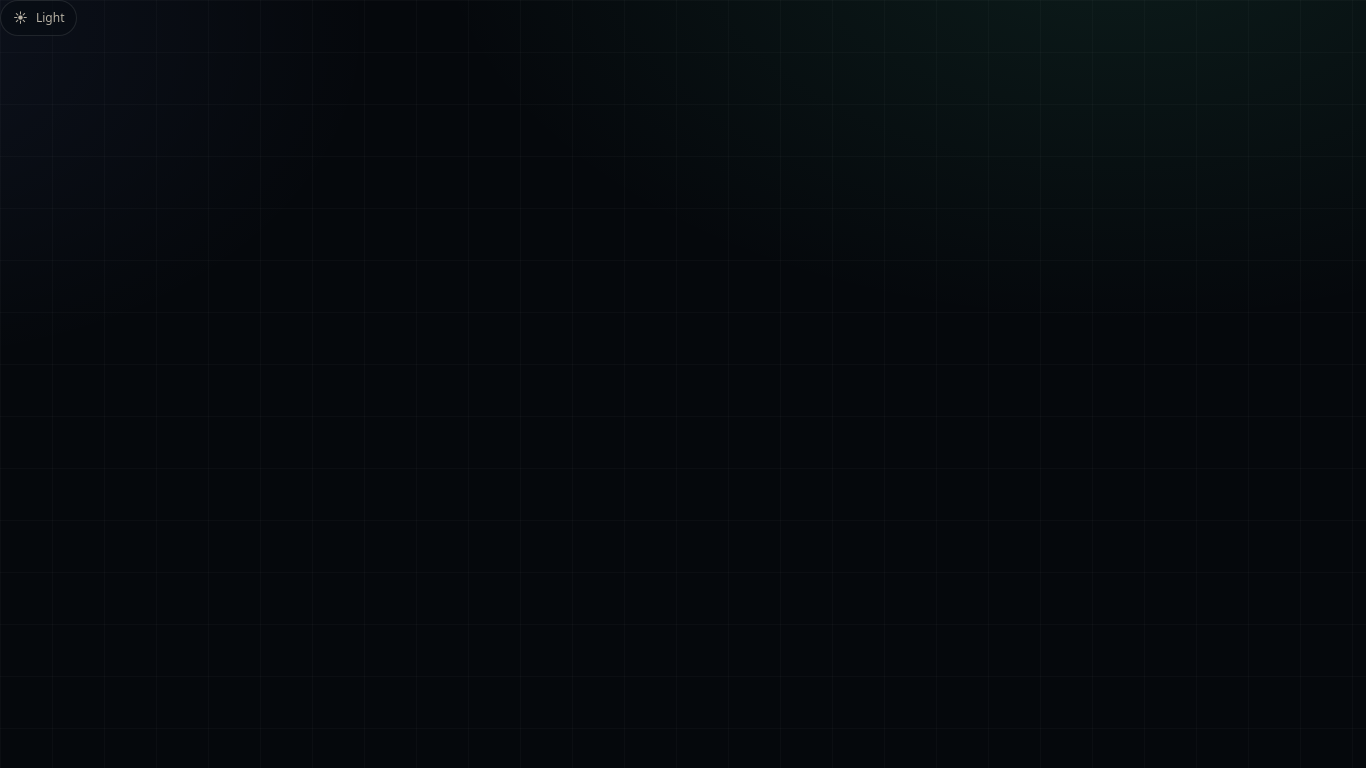
theme toggle › switches to the light theme and persists the choice
This screenshot has width=1366, height=768.
Step 1. Click the button with aria-label "Switch to light theme" → click(39, 18), box [0,0,78,36]
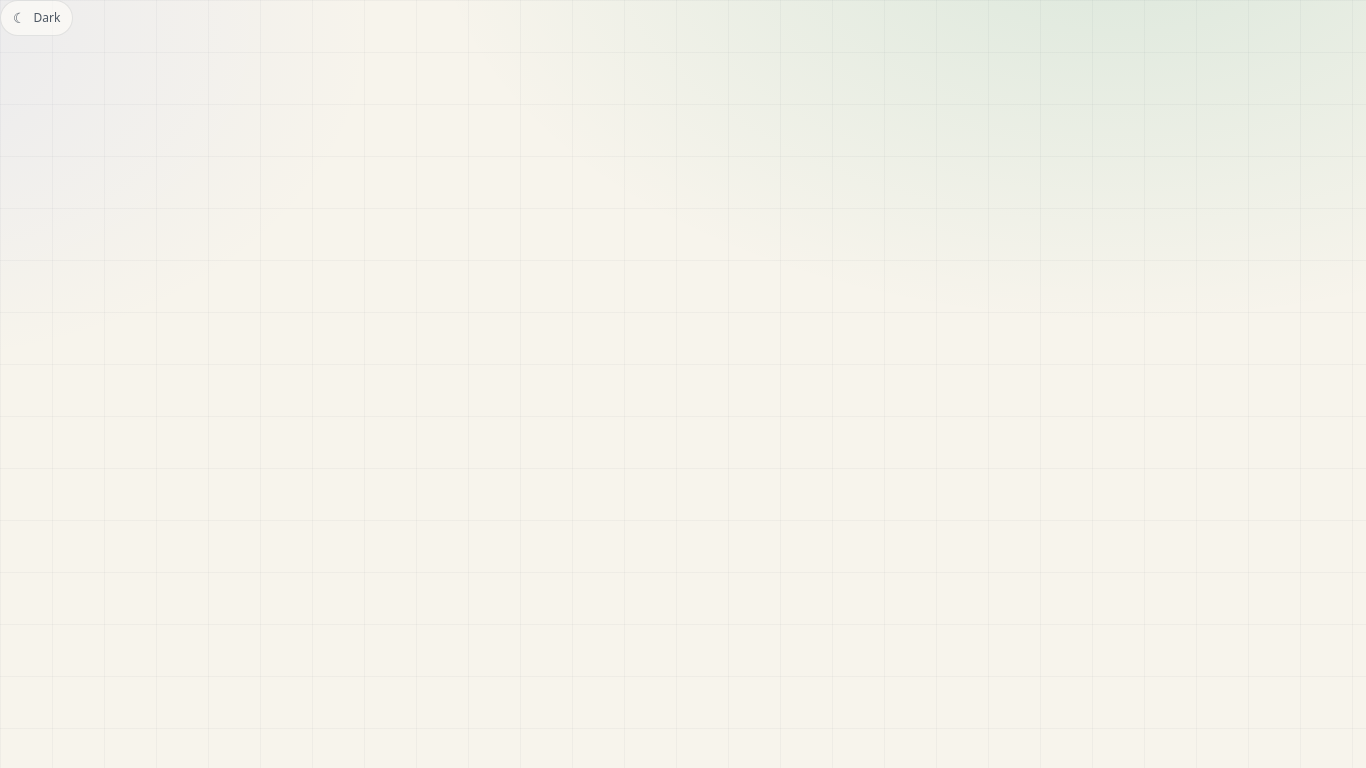
Result: the button with aria-label "Switch to dark theme" is shown at [0,0,73,36]
